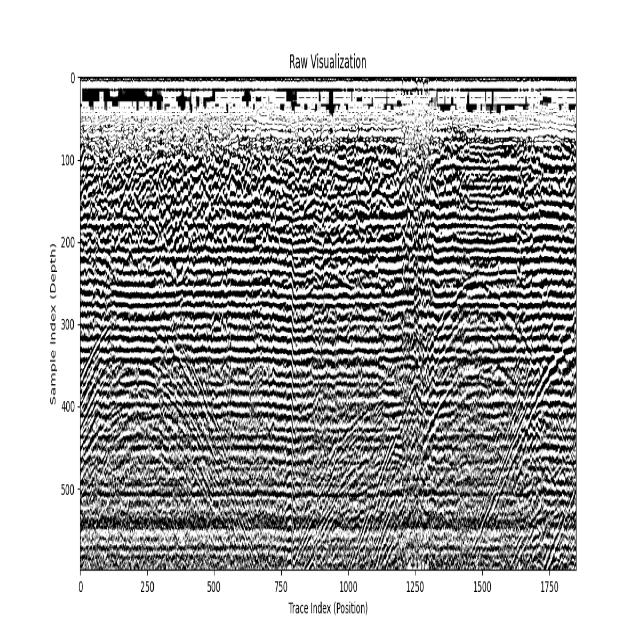anomaly: (355, 277, 575, 568), (79, 303, 260, 572), (264, 399, 374, 565)
